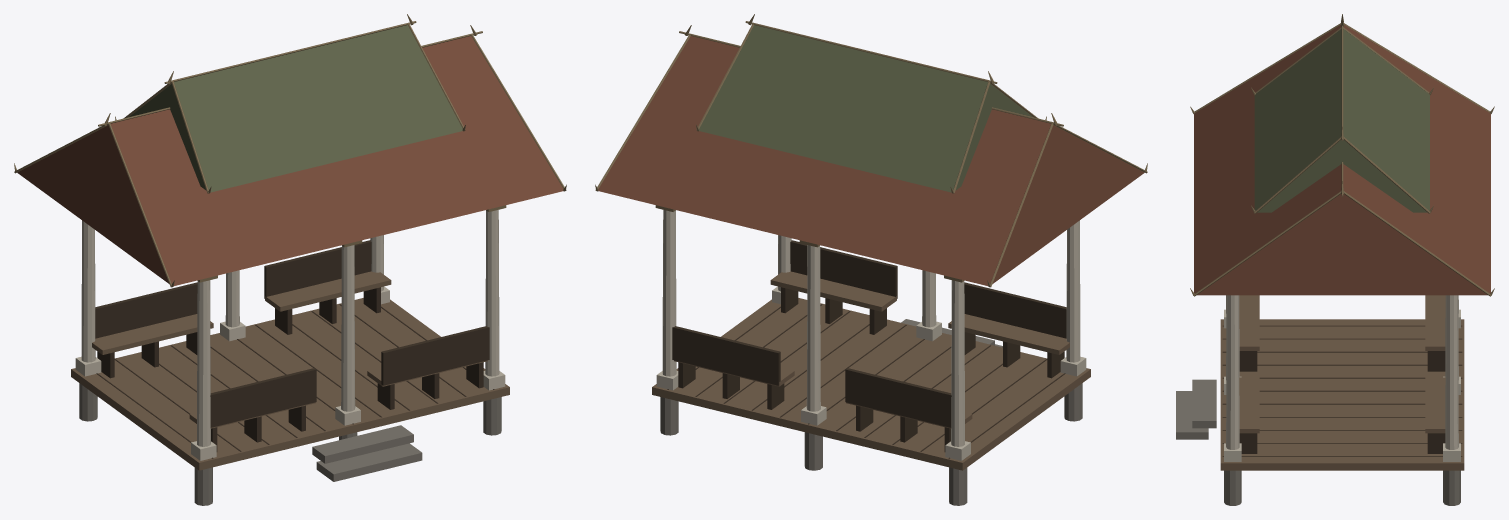
File: thai_sala.glb
3 views of the same model, side by side, from view 1: azimuth 30°, elevation 25°; view 2: azimuth 150°, elevation 25°; view 3: azimuth 270°, elevation 25° (orthographic). The views are drawn at different scales.
Visible parts, largest first — view 1: thai_sala; view 2: thai_sala; view 3: thai_sala.
Part boxes in pixels (x1,y1,x2,y2): thai_sala: (14,14,566,505); thai_sala: (595,14,1147,505); thai_sala: (1176,14,1494,505).
Size of the model in its own units: 5.35 by 4.93 by 3.93.
